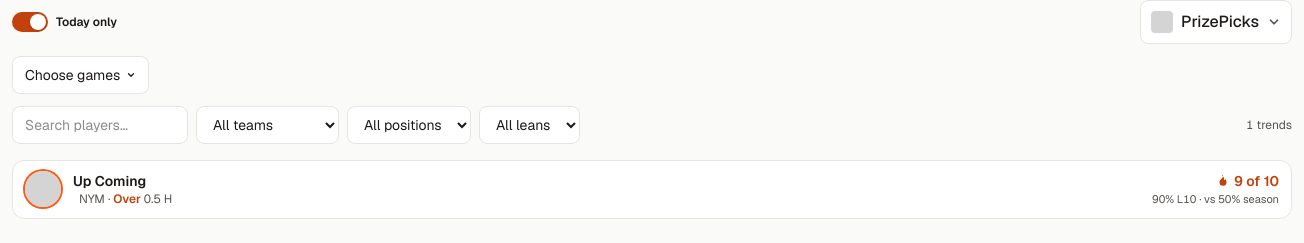
Test: SourcedTrends game picker › hides the picker and shows everyone when the slate switch is off
Click the switch labelled "Today only".
click(64, 22)  # box [12,12,117,32]
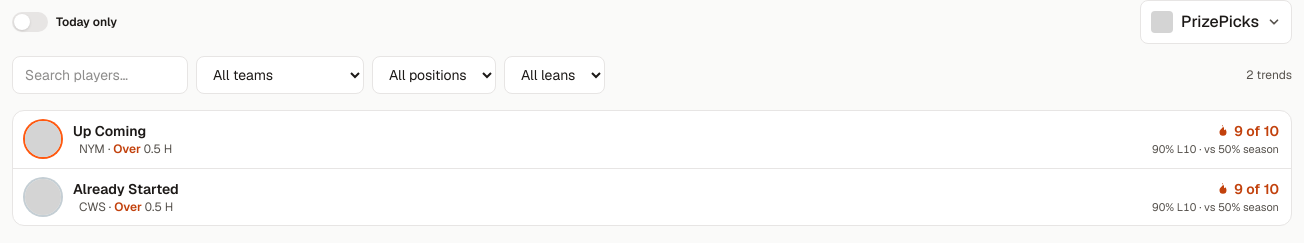
Expected: the text "Up Coming" is shown, [73,121,146,141]
Expected: the button "Choose games" is gone
Expected: the text "Already Started" is shown, [73,179,179,199]
